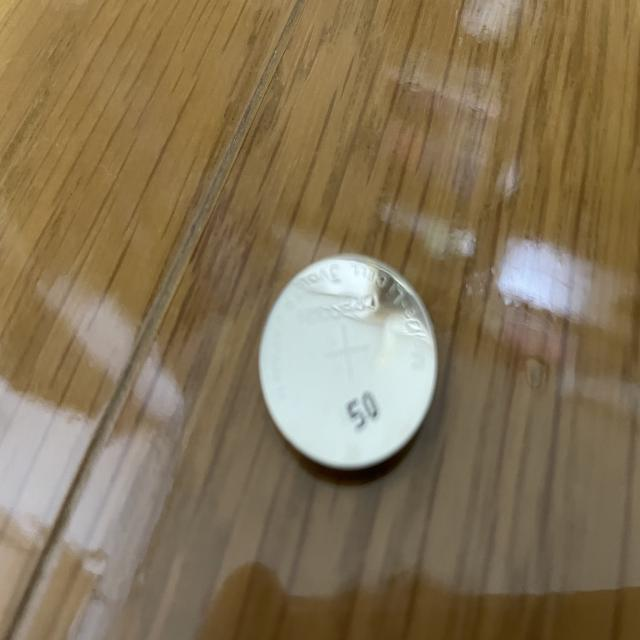COIN: (256, 254, 439, 476)
